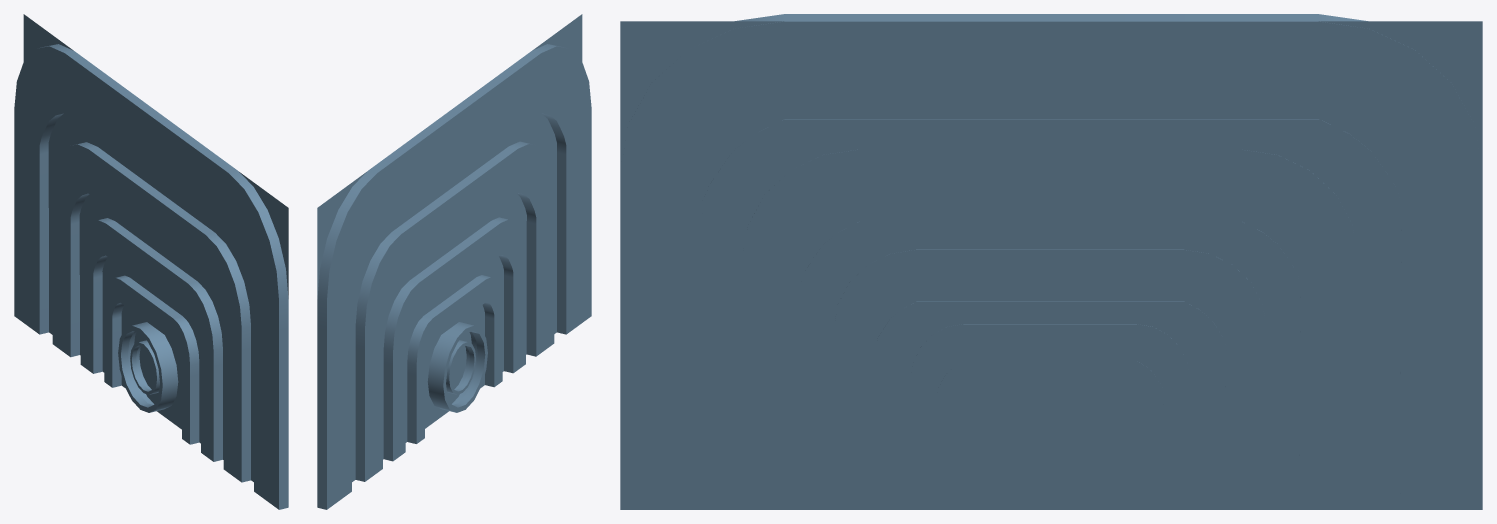
The model's file is Wall_2(MuchosCuadrados).fbx.
3 views of the same model, side by side, from view 1: azimuth 30°, elevation 25°; view 2: azimuth 150°, elevation 25°; view 3: azimuth 270°, elevation 25° (orthographic). The views are drawn at different scales.
Visible parts, largest first — view 1: Wall_2; view 2: Wall_2; view 3: Wall_2.
Part boxes in pixels (left/top/right/bottom): Wall_2: left=14, top=14, right=288, bottom=509; Wall_2: left=317, top=14, right=591, bottom=509; Wall_2: left=620, top=14, right=1482, bottom=509.
Bounding box in the file's own units: 27.59 × 500 × 800.
